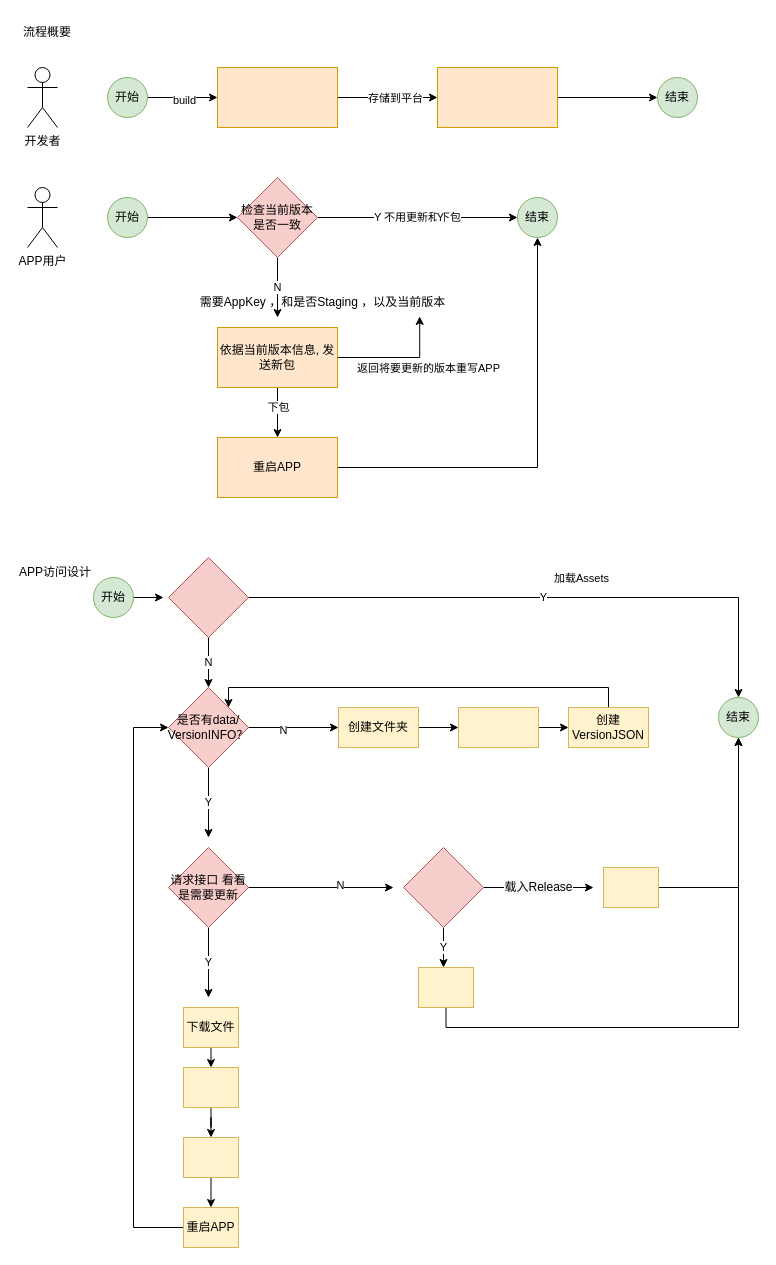
The diagram is 776 pixels wide and 1265 high, and some of its shapes have lost their labels. The centre of each missing label's shape, as x and y in pixels:
"BUILD包 + 版本信息" belongs at (277,97).
"CV文件进去" belongs at (498,727).
"平台给你打压缩/并且给你标记其version信息，存库" belongs at (497,97).
"是否DEV？" belongs at (208,597).
"是否是Staging" belongs at (443,887).
"更新VersionINFO" belongs at (210,1157).
"解压缩和替换" belongs at (210,1087).
"载入Relase" belongs at (630,887).
"载入Staging" belongs at (446,987).
